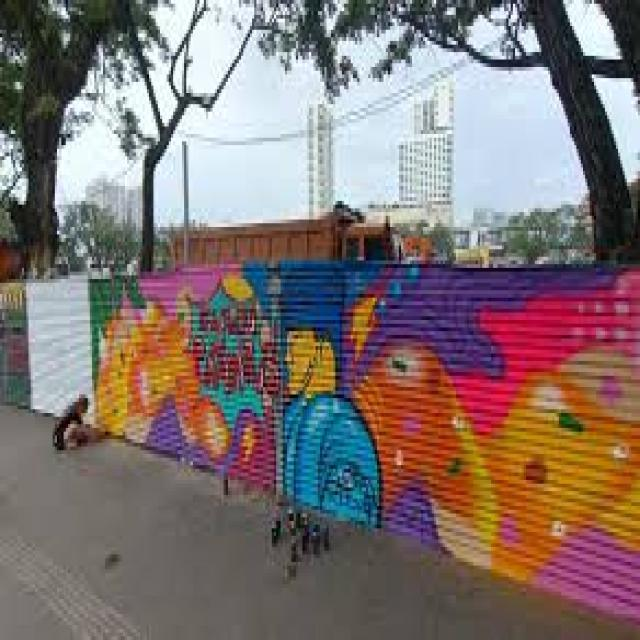-: (88, 262, 640, 619), (0, 280, 30, 403)
